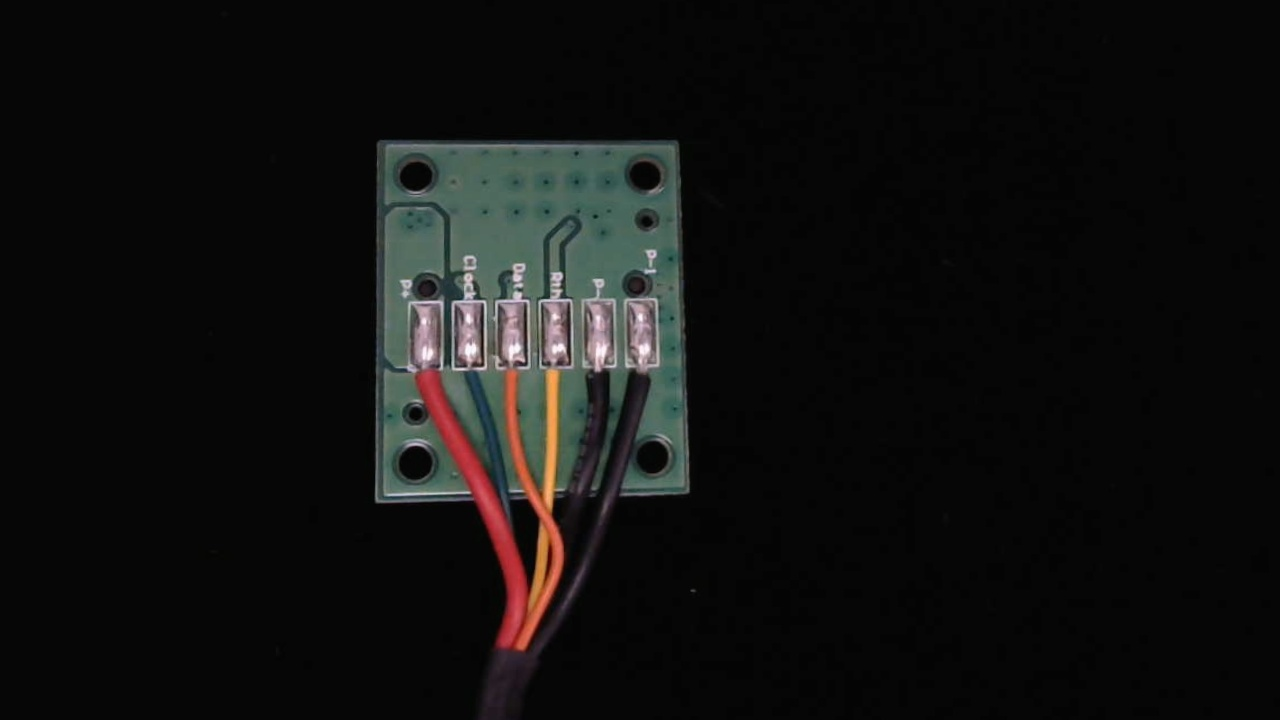Black: (580, 352, 620, 432)
Black1: (628, 345, 665, 419)
Green: (450, 349, 491, 422)
Orange: (494, 352, 532, 431)
Red: (406, 352, 447, 430)
Yellow: (539, 348, 578, 429)
